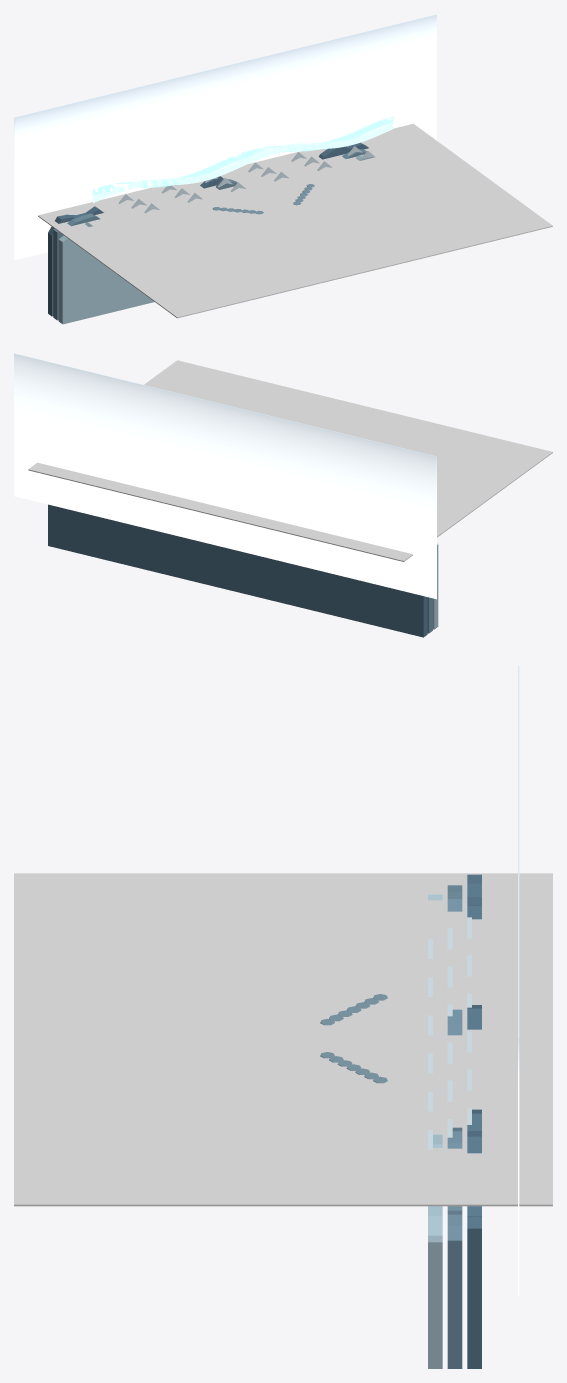
File: aurorafrostpeak.glb
3 views of the same model, one above another, from view 1: azimuth 30°, elevation 25°; view 2: azimuth 150°, elevation 25°; view 3: azimuth 270°, elevation 25° (orthographic). The views are drawn at different scales.
Visible parts, largest first — view 1: Ground contact / transparent shadow receiver.066, Sky gradient / editable material.066, World / terrain and architecture.029, World / windows and source motifs.028; view 2: Sky gradient / editable material.066, Ground contact / transparent shadow receiver.066, World / terrain and architecture.029; view 3: Ground contact / transparent shadow receiver.066, World / terrain and architecture.029, Sky gradient / editable material.066, Foreground / edge details.027.
Part boxes in pixels (bbox=[...]): Ground contact / transparent shadow receiver.066: bbox=[38, 123, 552, 318]; Sky gradient / editable material.066: bbox=[14, 14, 436, 260]; World / terrain and architecture.029: bbox=[48, 142, 375, 324]; World / windows and source motifs.028: bbox=[93, 113, 393, 203]; Sky gradient / editable material.066: bbox=[14, 353, 436, 599]; Ground contact / transparent shadow receiver.066: bbox=[28, 360, 552, 561]; World / terrain and architecture.029: bbox=[48, 504, 438, 637]; Ground contact / transparent shadow receiver.066: bbox=[14, 873, 552, 1206]; World / terrain and architecture.029: bbox=[428, 874, 481, 1368]; Sky gradient / editable material.066: bbox=[518, 666, 519, 1296]; Foreground / edge details.027: bbox=[320, 994, 387, 1083].
Bounding box in the file's own units: 180 × 79 × 110.
